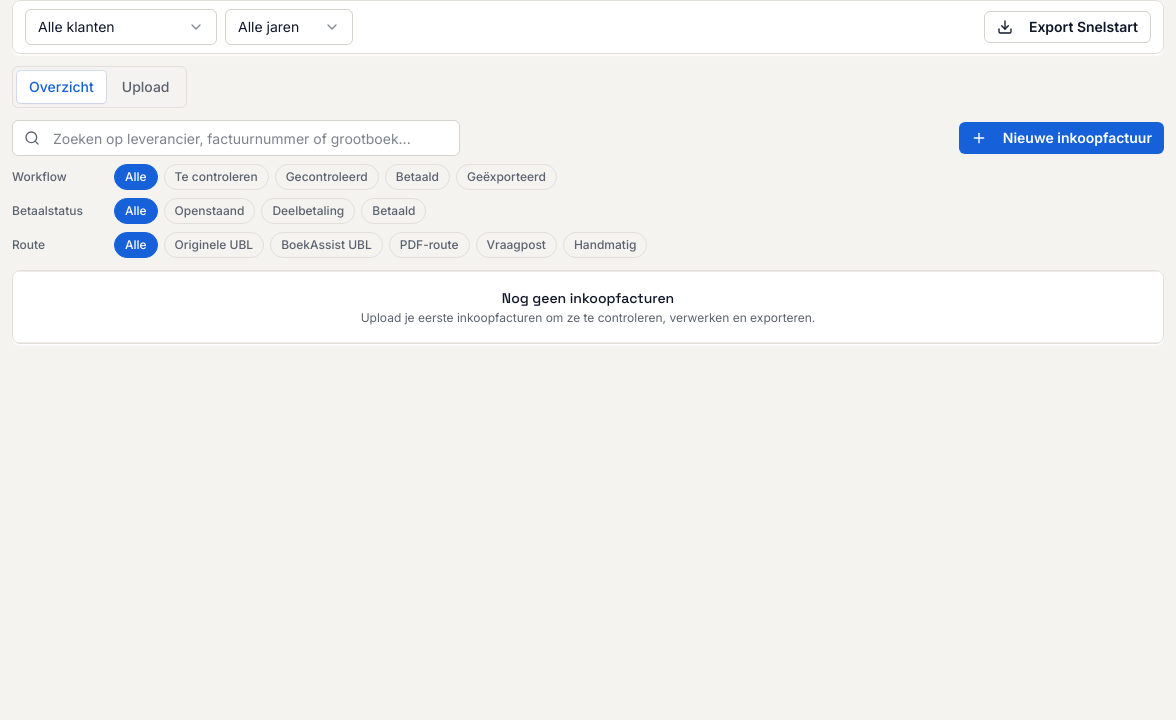
Test: Inkoopfacturen UI › Upload-tab bevat een klantselectie voor upload
Press the mouse on the tab "Upload" at point(146, 87), box [110,71,182,103]
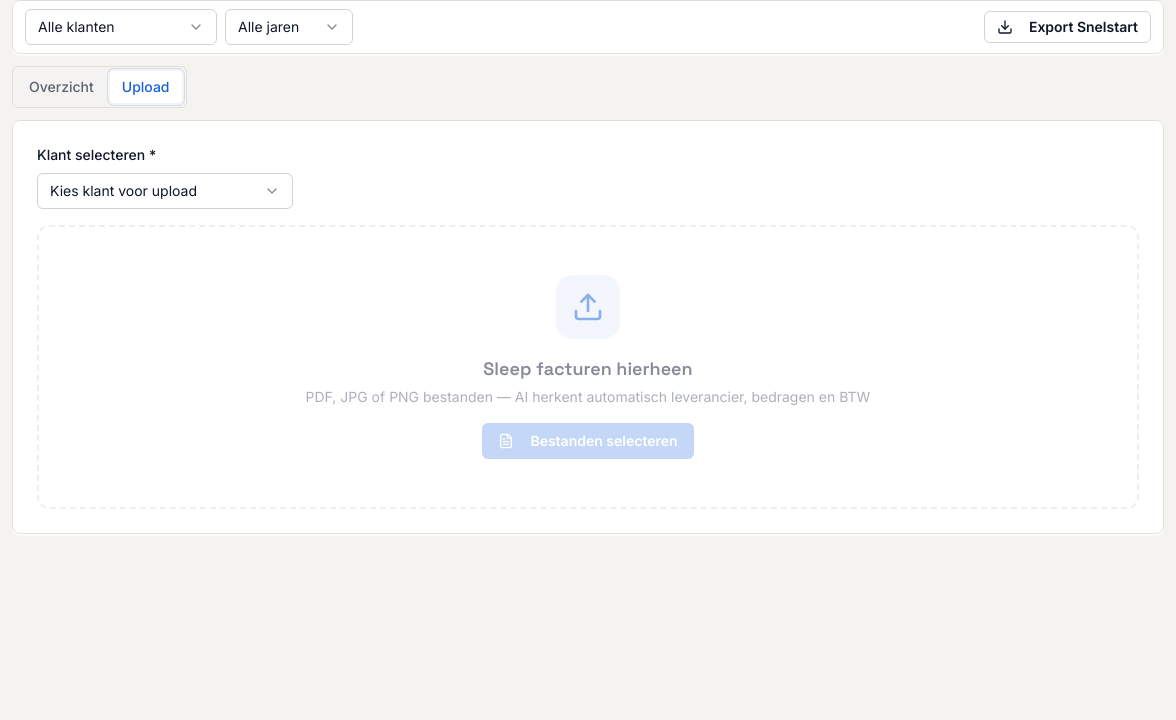
expect the text "Kies klant voor upload" is shown: met, box [50,181,197,201]
